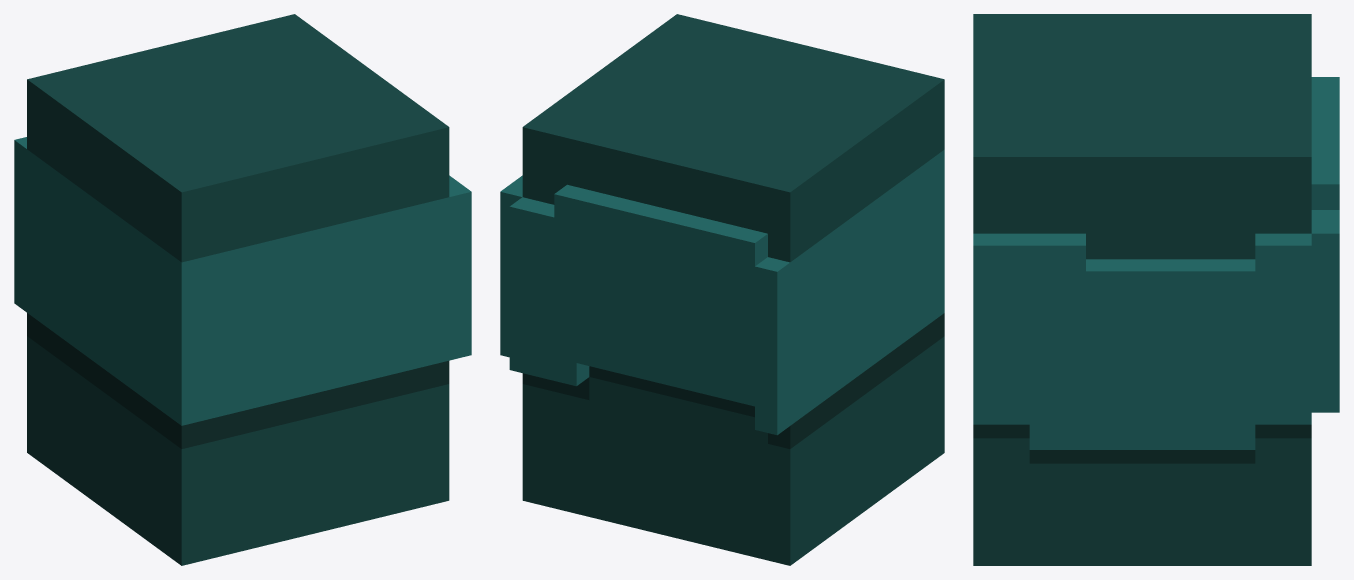
File: WinterGrass-18.obj
3 renders of one model, left to right at view 1: azimuth 30°, elevation 25°; view 2: azimuth 150°, elevation 25°; view 3: azimuth 270°, elevation 25°, orthographic. The views are drawn at different scales.
Bounding box in the file's own units: 1.3 × 1.6 × 1.3.
Materials: 1 (1 with a texture image).
